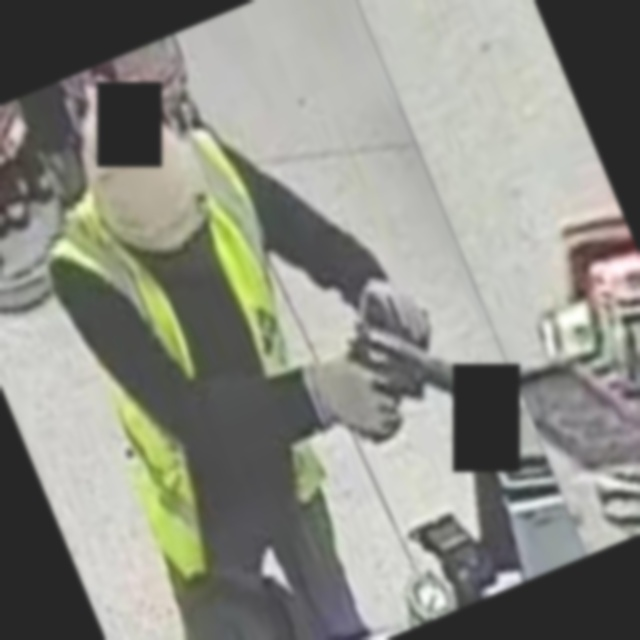gun: (320, 273, 497, 453)
